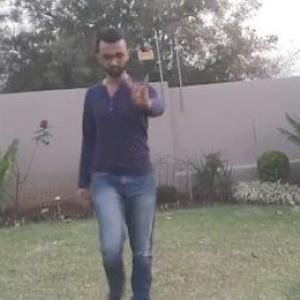takeoff-hand: (119, 69, 157, 114)
